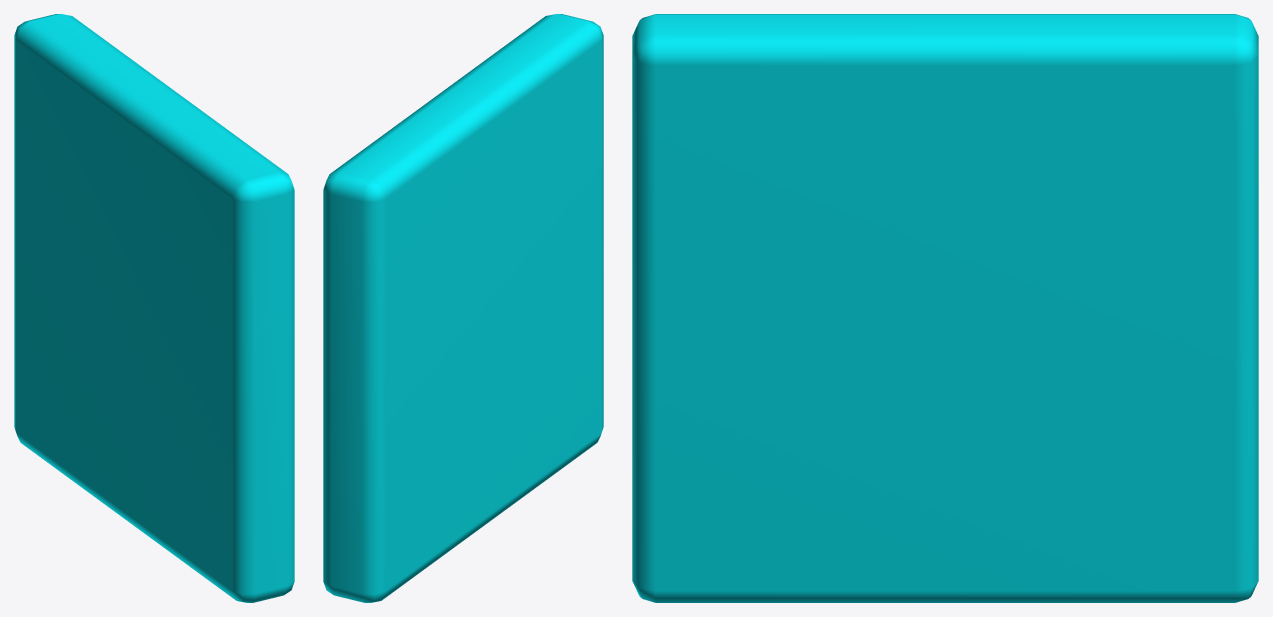
The model's file is wheel_rim_aero_blade_front_fl_3.glb.
3 views of the same model, side by side, from view 1: azimuth 30°, elevation 25°; view 2: azimuth 150°, elevation 25°; view 3: azimuth 270°, elevation 25° (orthographic). The views are drawn at different scales.
Parts seen in each view (by area): view 1: WHEEL_Rim_Aero_Blade_Front_FL_3; view 2: WHEEL_Rim_Aero_Blade_Front_FL_3; view 3: WHEEL_Rim_Aero_Blade_Front_FL_3.
Boxes of the visible parts, box(x1,y1,x2,y2) form: WHEEL_Rim_Aero_Blade_Front_FL_3: box(14, 14, 294, 602); WHEEL_Rim_Aero_Blade_Front_FL_3: box(323, 14, 603, 602); WHEEL_Rim_Aero_Blade_Front_FL_3: box(632, 14, 1258, 602).
Bounding box in the file's own units: 0.012 × 0.08 × 0.08.
